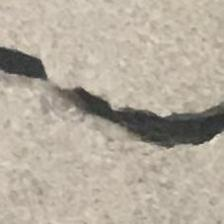Crack: (0, 32, 224, 167)
